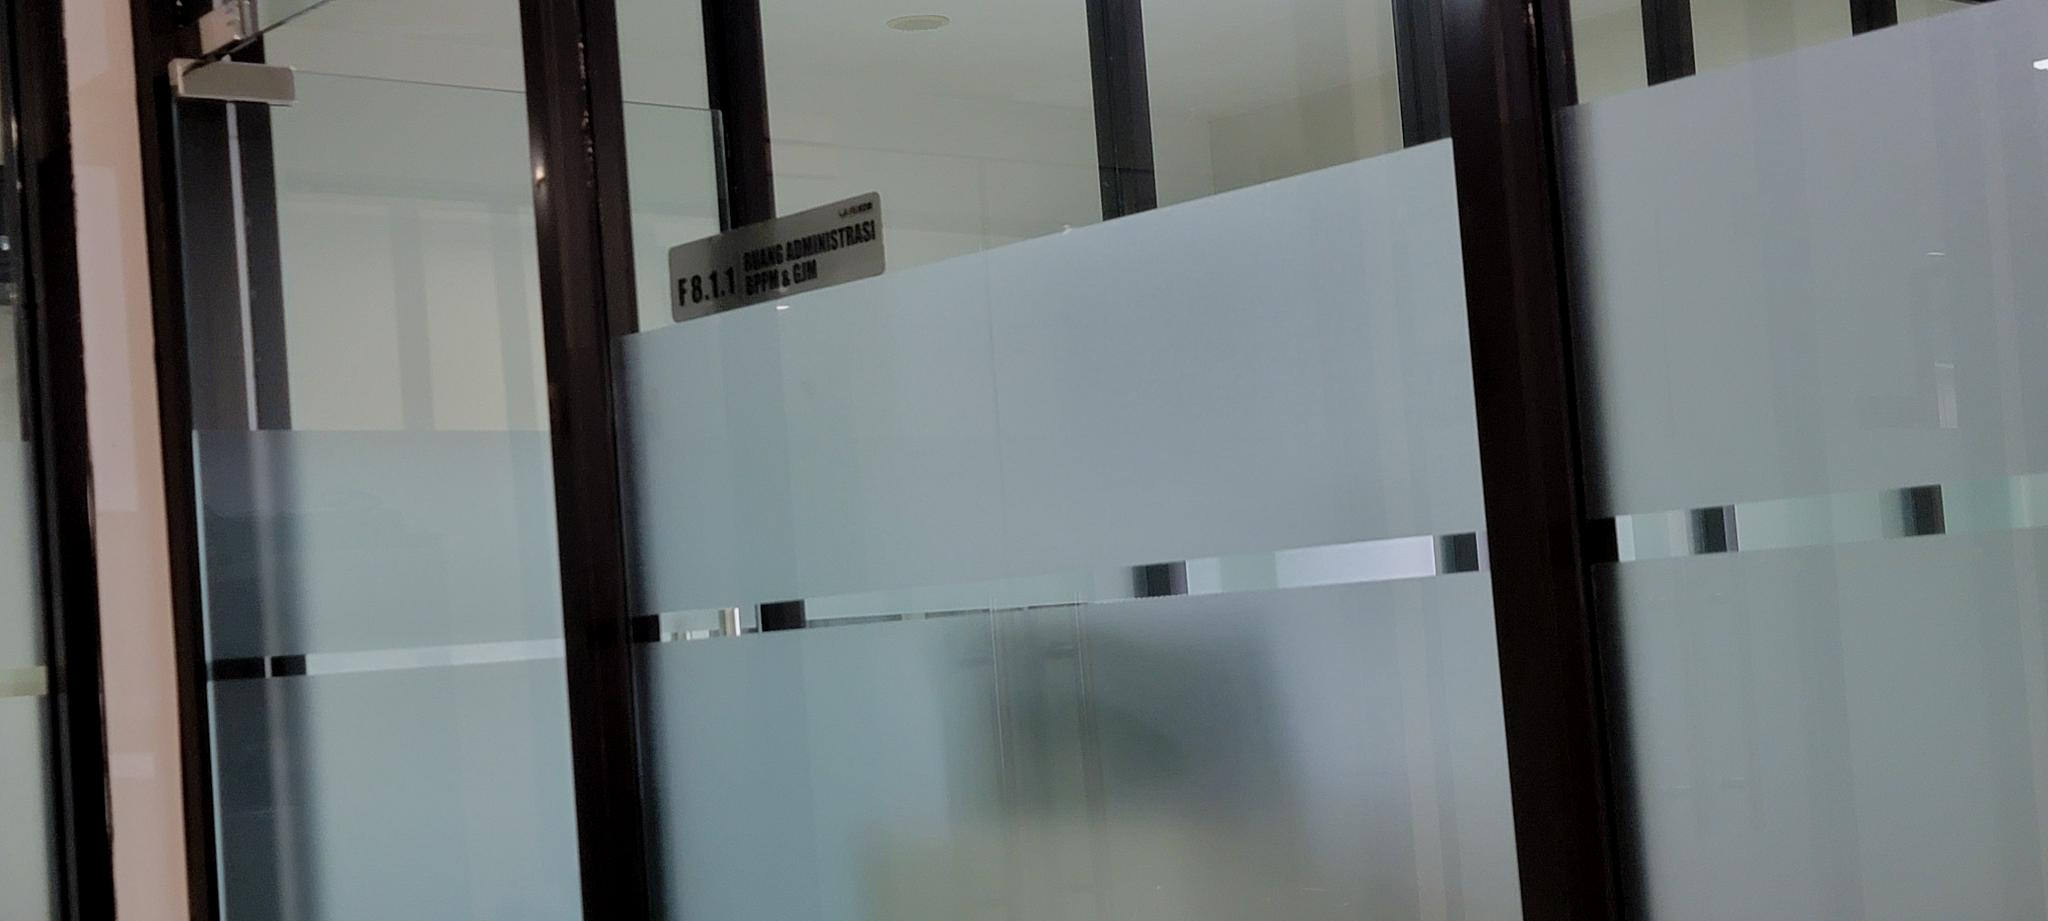plate: (667, 191, 888, 327)
